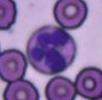N: (26, 25, 76, 74)
